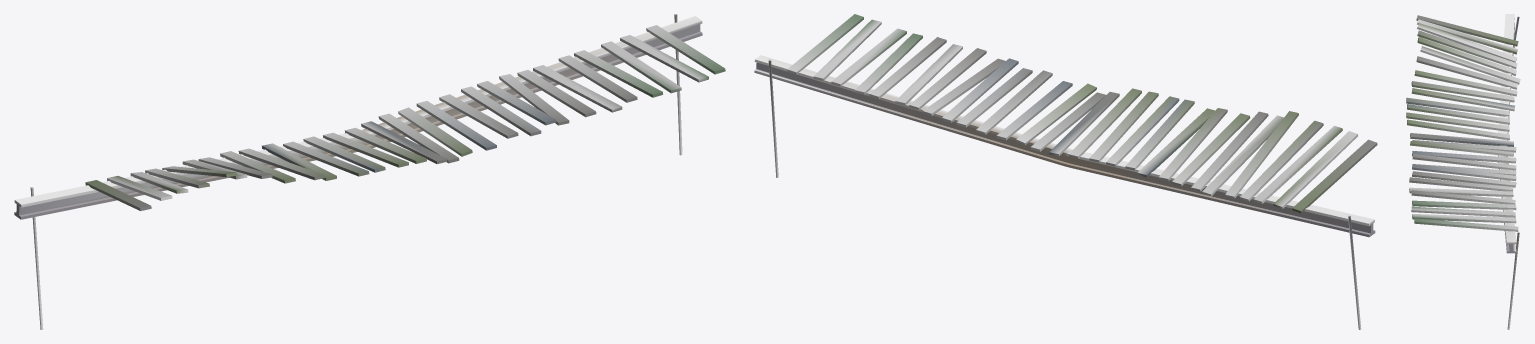
Rendered from bridge4.glb.
3 renders of one model, left to right at view 1: azimuth 30°, elevation 25°; view 2: azimuth 150°, elevation 25°; view 3: azimuth 270°, elevation 25°, orthographic. The views are drawn at different scales.
Parts seen in each view (by area): view 1: BRIDGE4; view 2: BRIDGE4; view 3: BRIDGE4.
Part boxes in pixels (box(x1,y1,x2,y2)): BRIDGE4: box(14, 14, 725, 329); BRIDGE4: box(754, 14, 1377, 329); BRIDGE4: box(1406, 14, 1520, 329).
Size of the model in its own units: 13.46 by 3.15 by 2.71.
